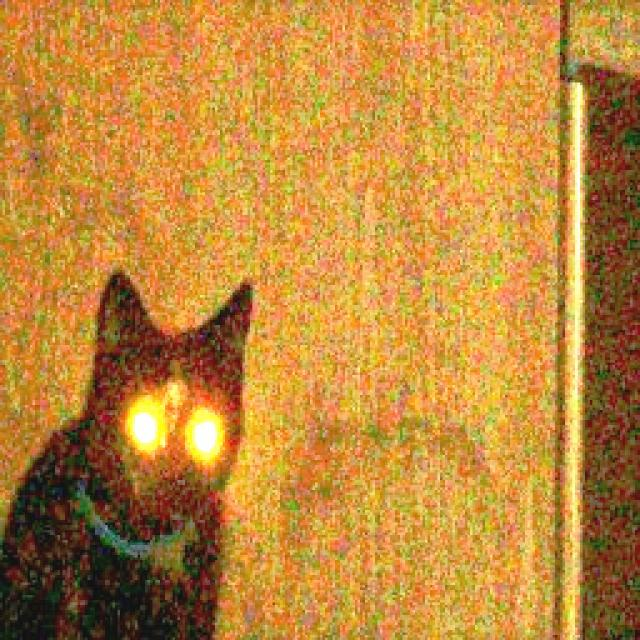cat: (13, 252, 264, 640)
